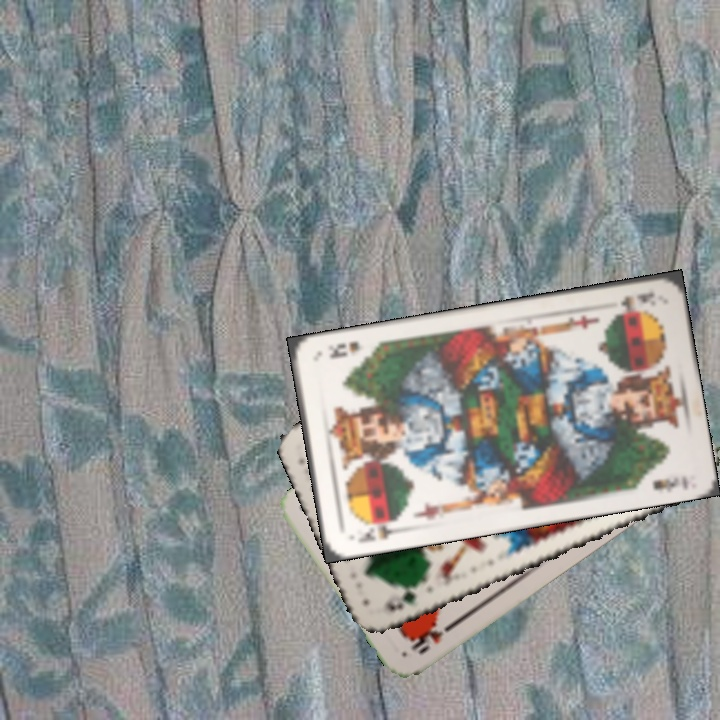GK: (380, 578, 427, 614)
HO: (407, 618, 458, 657)
SK: (353, 515, 405, 546), (609, 287, 657, 316)
